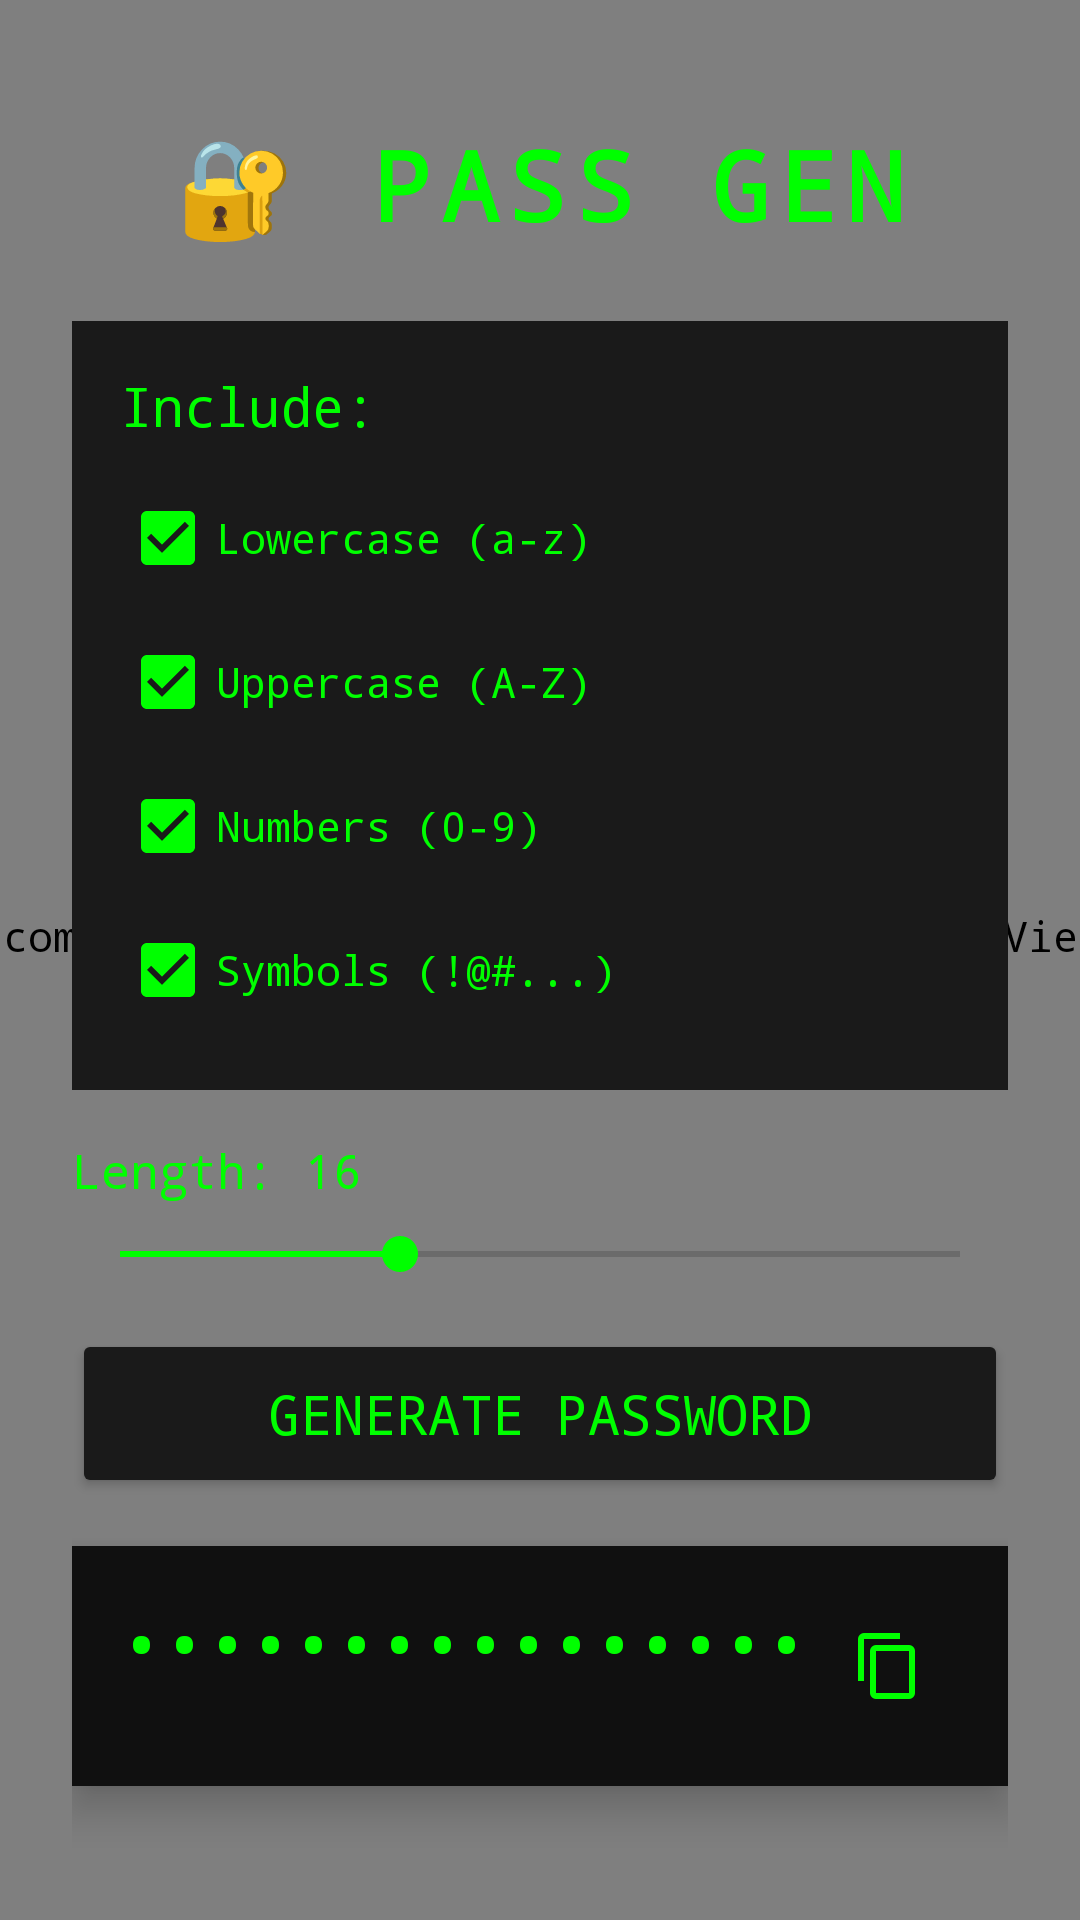

Named icons in this screenshot (1080px x 1920px) and their centers, (x=x, y=y):
Copy password: (x=886, y=1666)
